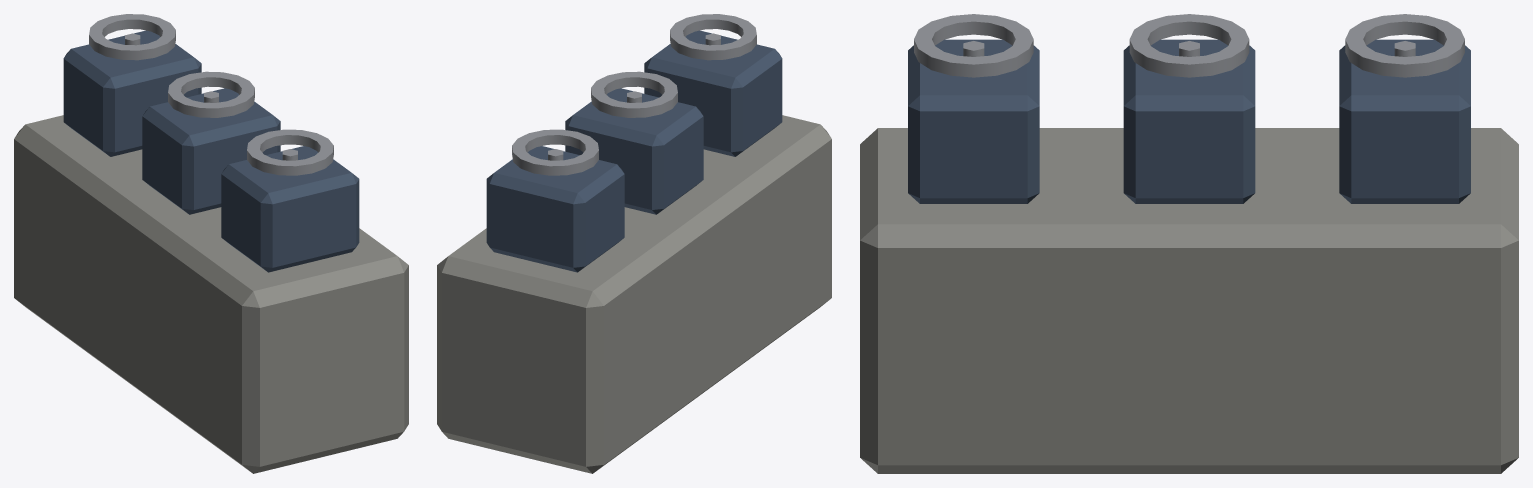
The model's file is ko300_valves.obj.
The picture shows the model from 3 angles, left to right: view 1: azimuth 30°, elevation 25°; view 2: azimuth 150°, elevation 25°; view 3: azimuth 270°, elevation 25°; orthographic projection. The views are drawn at different scales.
Parts seen in each view (by area): view 1: ko300_valves; view 2: ko300_valves; view 3: ko300_valves.
Part boxes in pixels (x1,y1,x2,y2): ko300_valves: (14, 14, 408, 473); ko300_valves: (437, 14, 831, 473); ko300_valves: (860, 14, 1518, 473).
Size of the model in its own units: 0.44 by 0.712 by 1.1.
